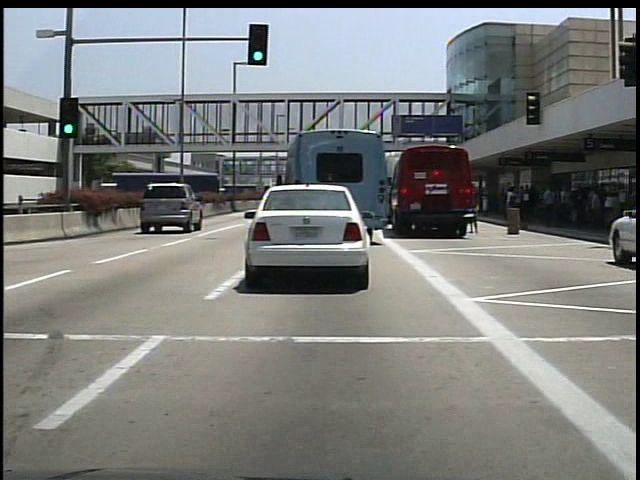person: (470, 181, 483, 236)
